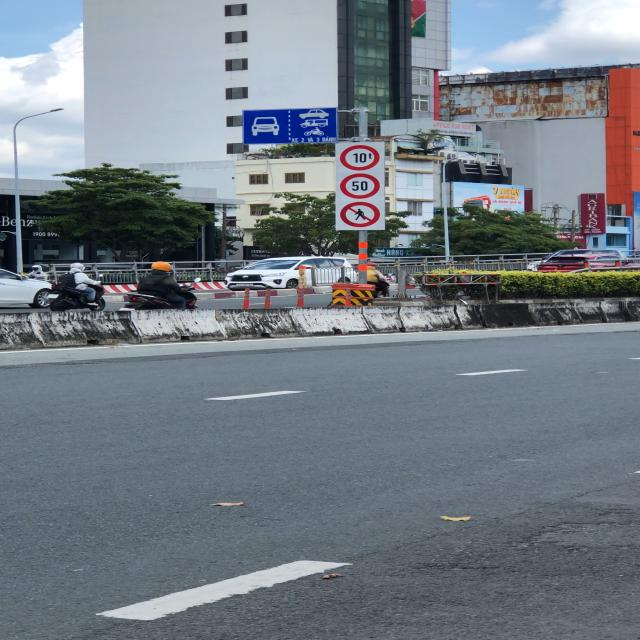Bien bao cam nguoi di bo: (337, 199, 389, 229)
Bien bao toc do toi da cho phep: (337, 172, 386, 199)
